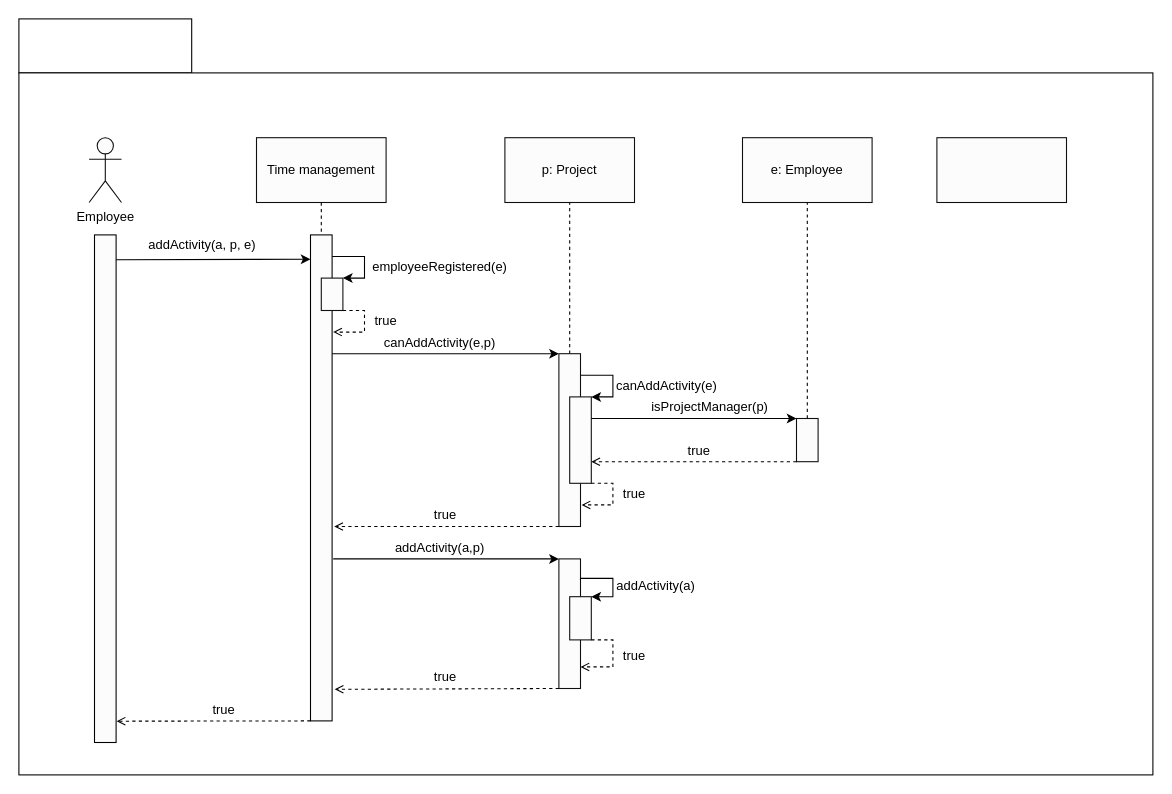
The diagram is 1172 pixels wide and 794 high, and some of its shapes have lost their labels. The shapes that lost their labels are listed below. From the top down, each one's centre as x and y in pixels, then its label:
At (x=105, y=45): "Add New Activity to a Project".
At (x=1001, y=169): "a: Activity".
